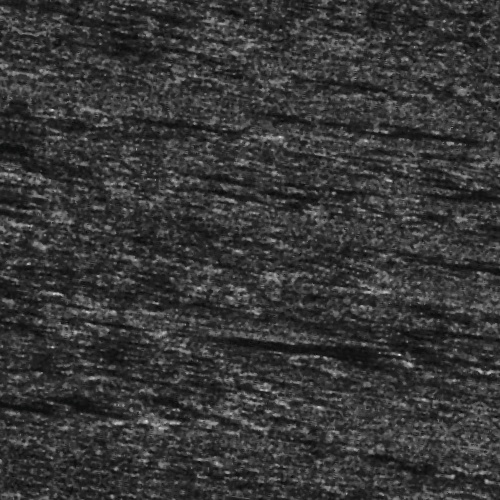object: (429, 103, 500, 114), (249, 118, 260, 147), (402, 333, 443, 340), (43, 316, 96, 321), (27, 242, 80, 247), (114, 434, 145, 437), (0, 250, 14, 255)
shadow: (128, 118, 254, 147), (230, 103, 465, 114), (234, 333, 423, 340), (447, 227, 500, 238), (0, 316, 69, 321), (0, 242, 54, 247), (85, 434, 129, 437), (296, 69, 378, 70), (492, 469, 500, 472)
